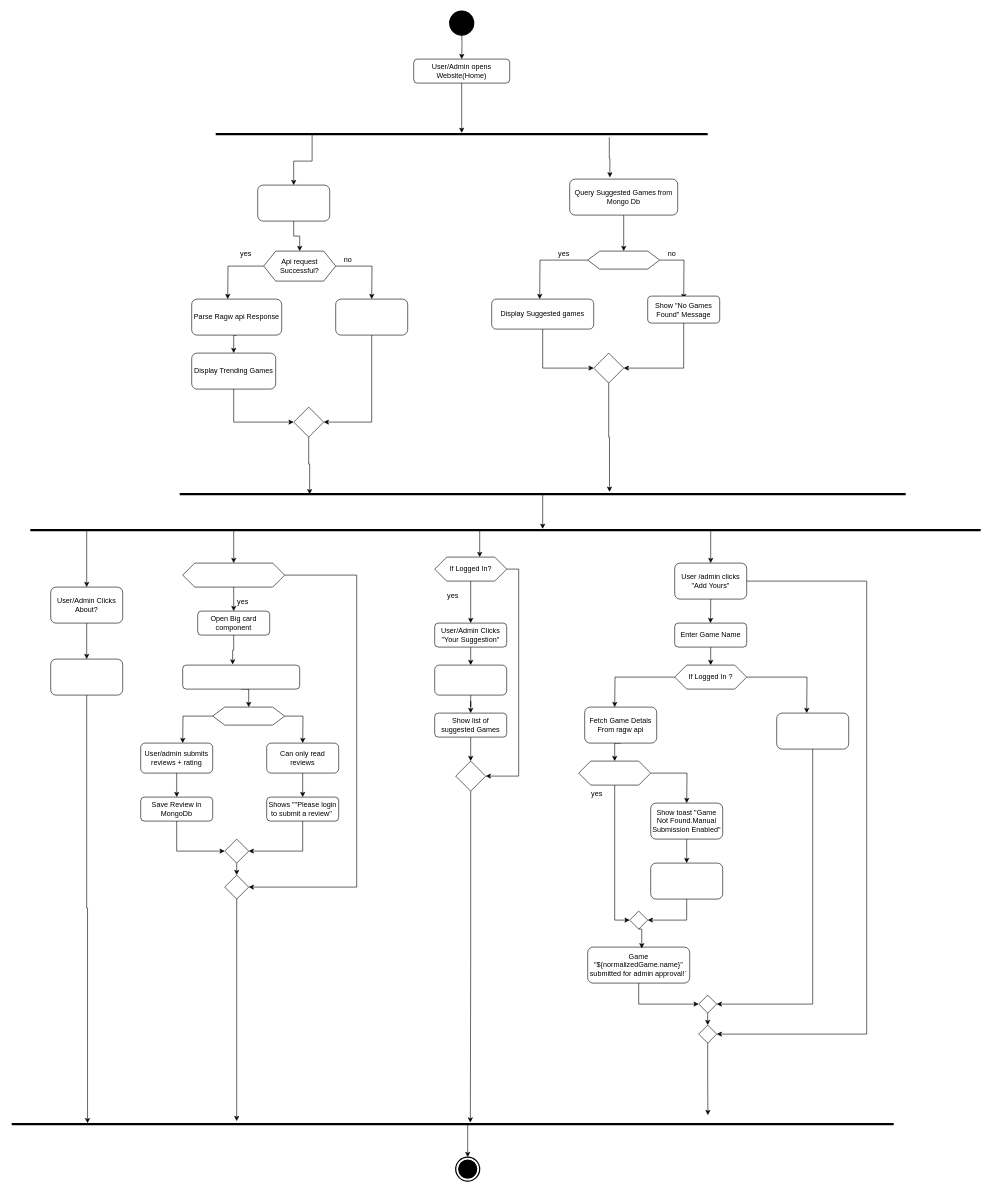
This 992x1192 diagram has some shape labels left out. Each missing label, with the centre of its shape:
Enable Manual Submission: [686,880]
Fetch games suggested by User/admin: [470,679]
GamesFound?: [623,259]
If Game Details Found?: [614,772]
Request Trending Games From ragw api: [293,202]
Show Failed to load trending games: [371,316]
show more information about the game+ revies section: [241,676]
show toast "Please Login To Add Game": [812,730]
User Logged in ?: [248,715]
User/Admin Clicks game card: [233,574]
Views details regarding the website: [86,676]
